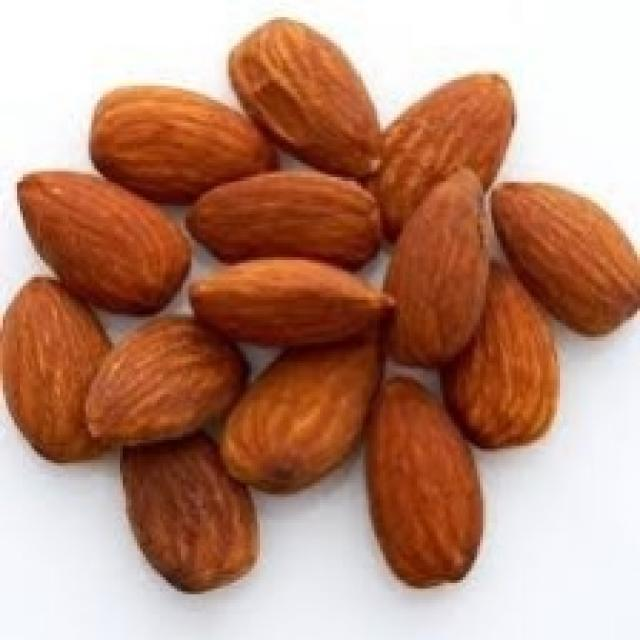almond: (220, 332, 382, 493), (12, 167, 188, 313), (368, 377, 487, 587), (227, 20, 383, 180), (374, 70, 519, 240), (83, 80, 282, 203), (491, 174, 640, 338), (122, 433, 263, 595), (378, 167, 495, 362), (87, 312, 248, 453), (0, 276, 118, 465), (455, 268, 560, 450), (190, 172, 378, 270), (188, 260, 395, 340)
